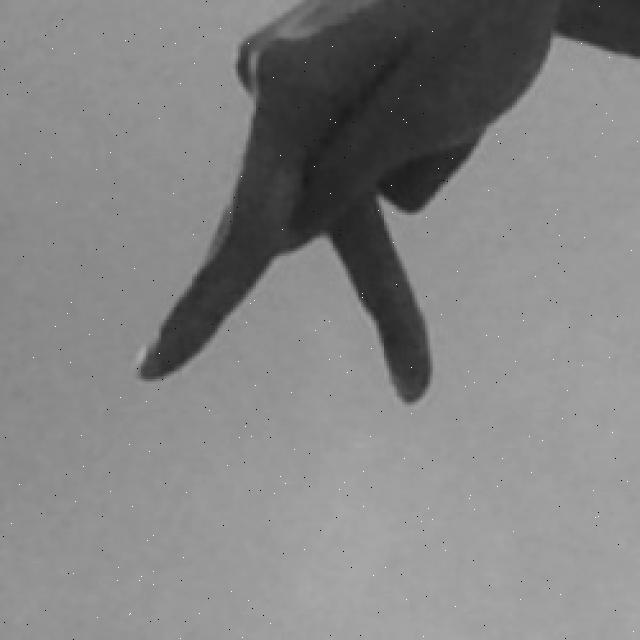P: (128, 0, 640, 407)
